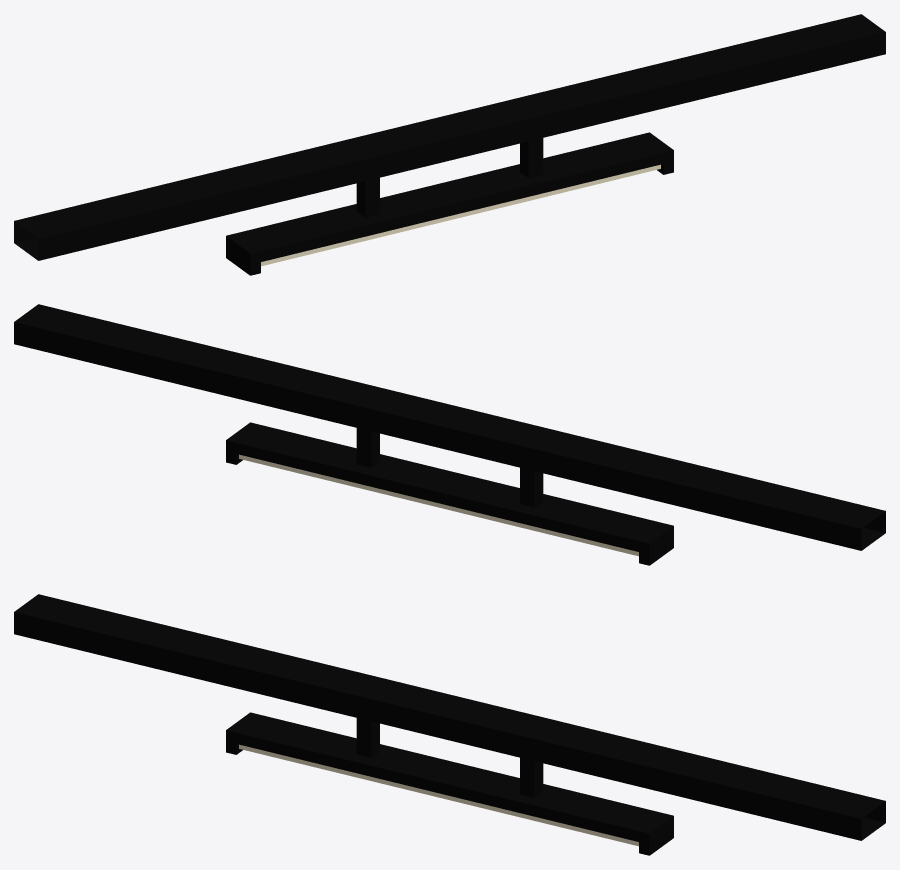
File: Lamp.fbx
The picture shows the model from 3 angles, top to bottom: view 1: azimuth 30°, elevation 25°; view 2: azimuth 150°, elevation 25°; view 3: azimuth 330°, elevation 25°; orthographic projection.
Visible parts, largest first — view 1: Cube; view 2: Cube; view 3: Cube.
Boxes of the visible parts, x1,y1,x2,y2 form: Cube: (14, 14, 885, 275); Cube: (14, 304, 885, 565); Cube: (14, 594, 885, 855).
Bounding box in the file's own units: 400 × 40 × 20.
